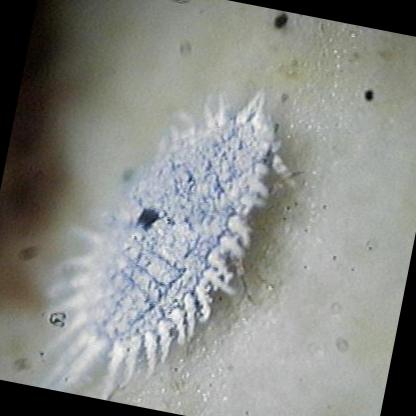mealy bug: (67, 95, 272, 376)
